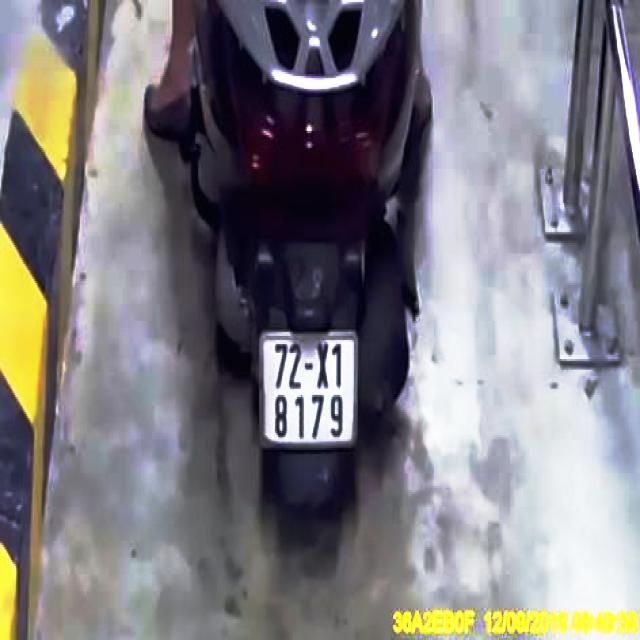license_plate: (260, 332, 360, 448)
